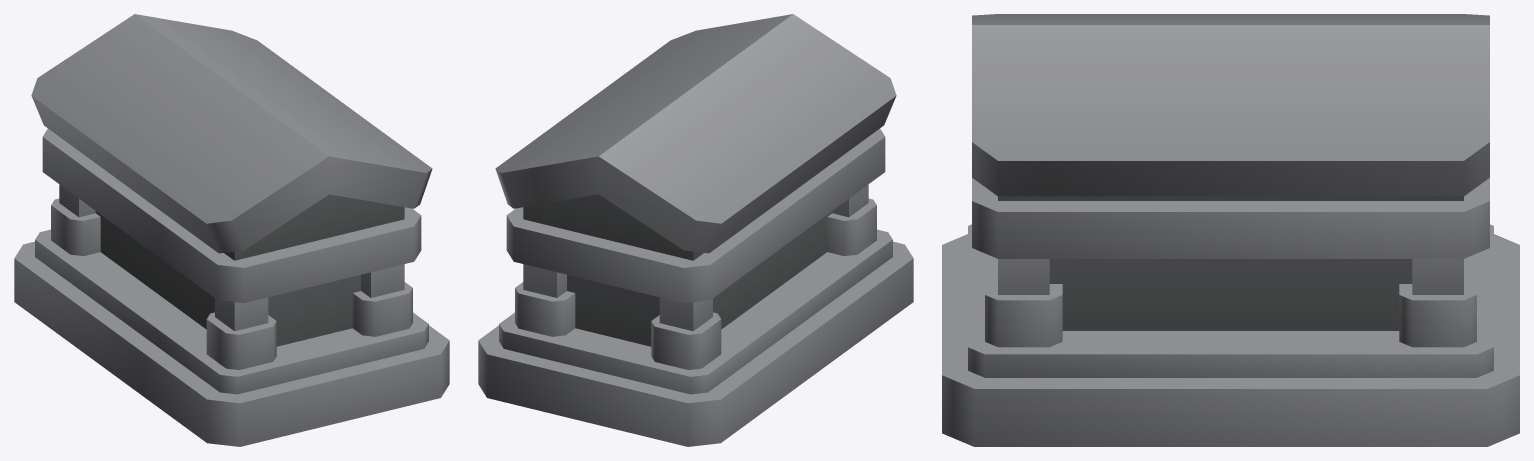
The model's file is crypt.glb.
The picture shows the model from 3 angles, left to right: view 1: azimuth 30°, elevation 25°; view 2: azimuth 150°, elevation 25°; view 3: azimuth 270°, elevation 25°; orthographic projection. The views are drawn at different scales.
Parts seen in each view (by area): view 1: crypt; view 2: crypt; view 3: crypt.
Boxes of the visible parts, <box> form: crypt: <box>14,14,449,446</box>; crypt: <box>478,14,913,446</box>; crypt: <box>942,14,1519,446</box>.
Bounding box in the file's own units: 1.73 × 1.76 × 2.68.
1 material, 1 textured.
